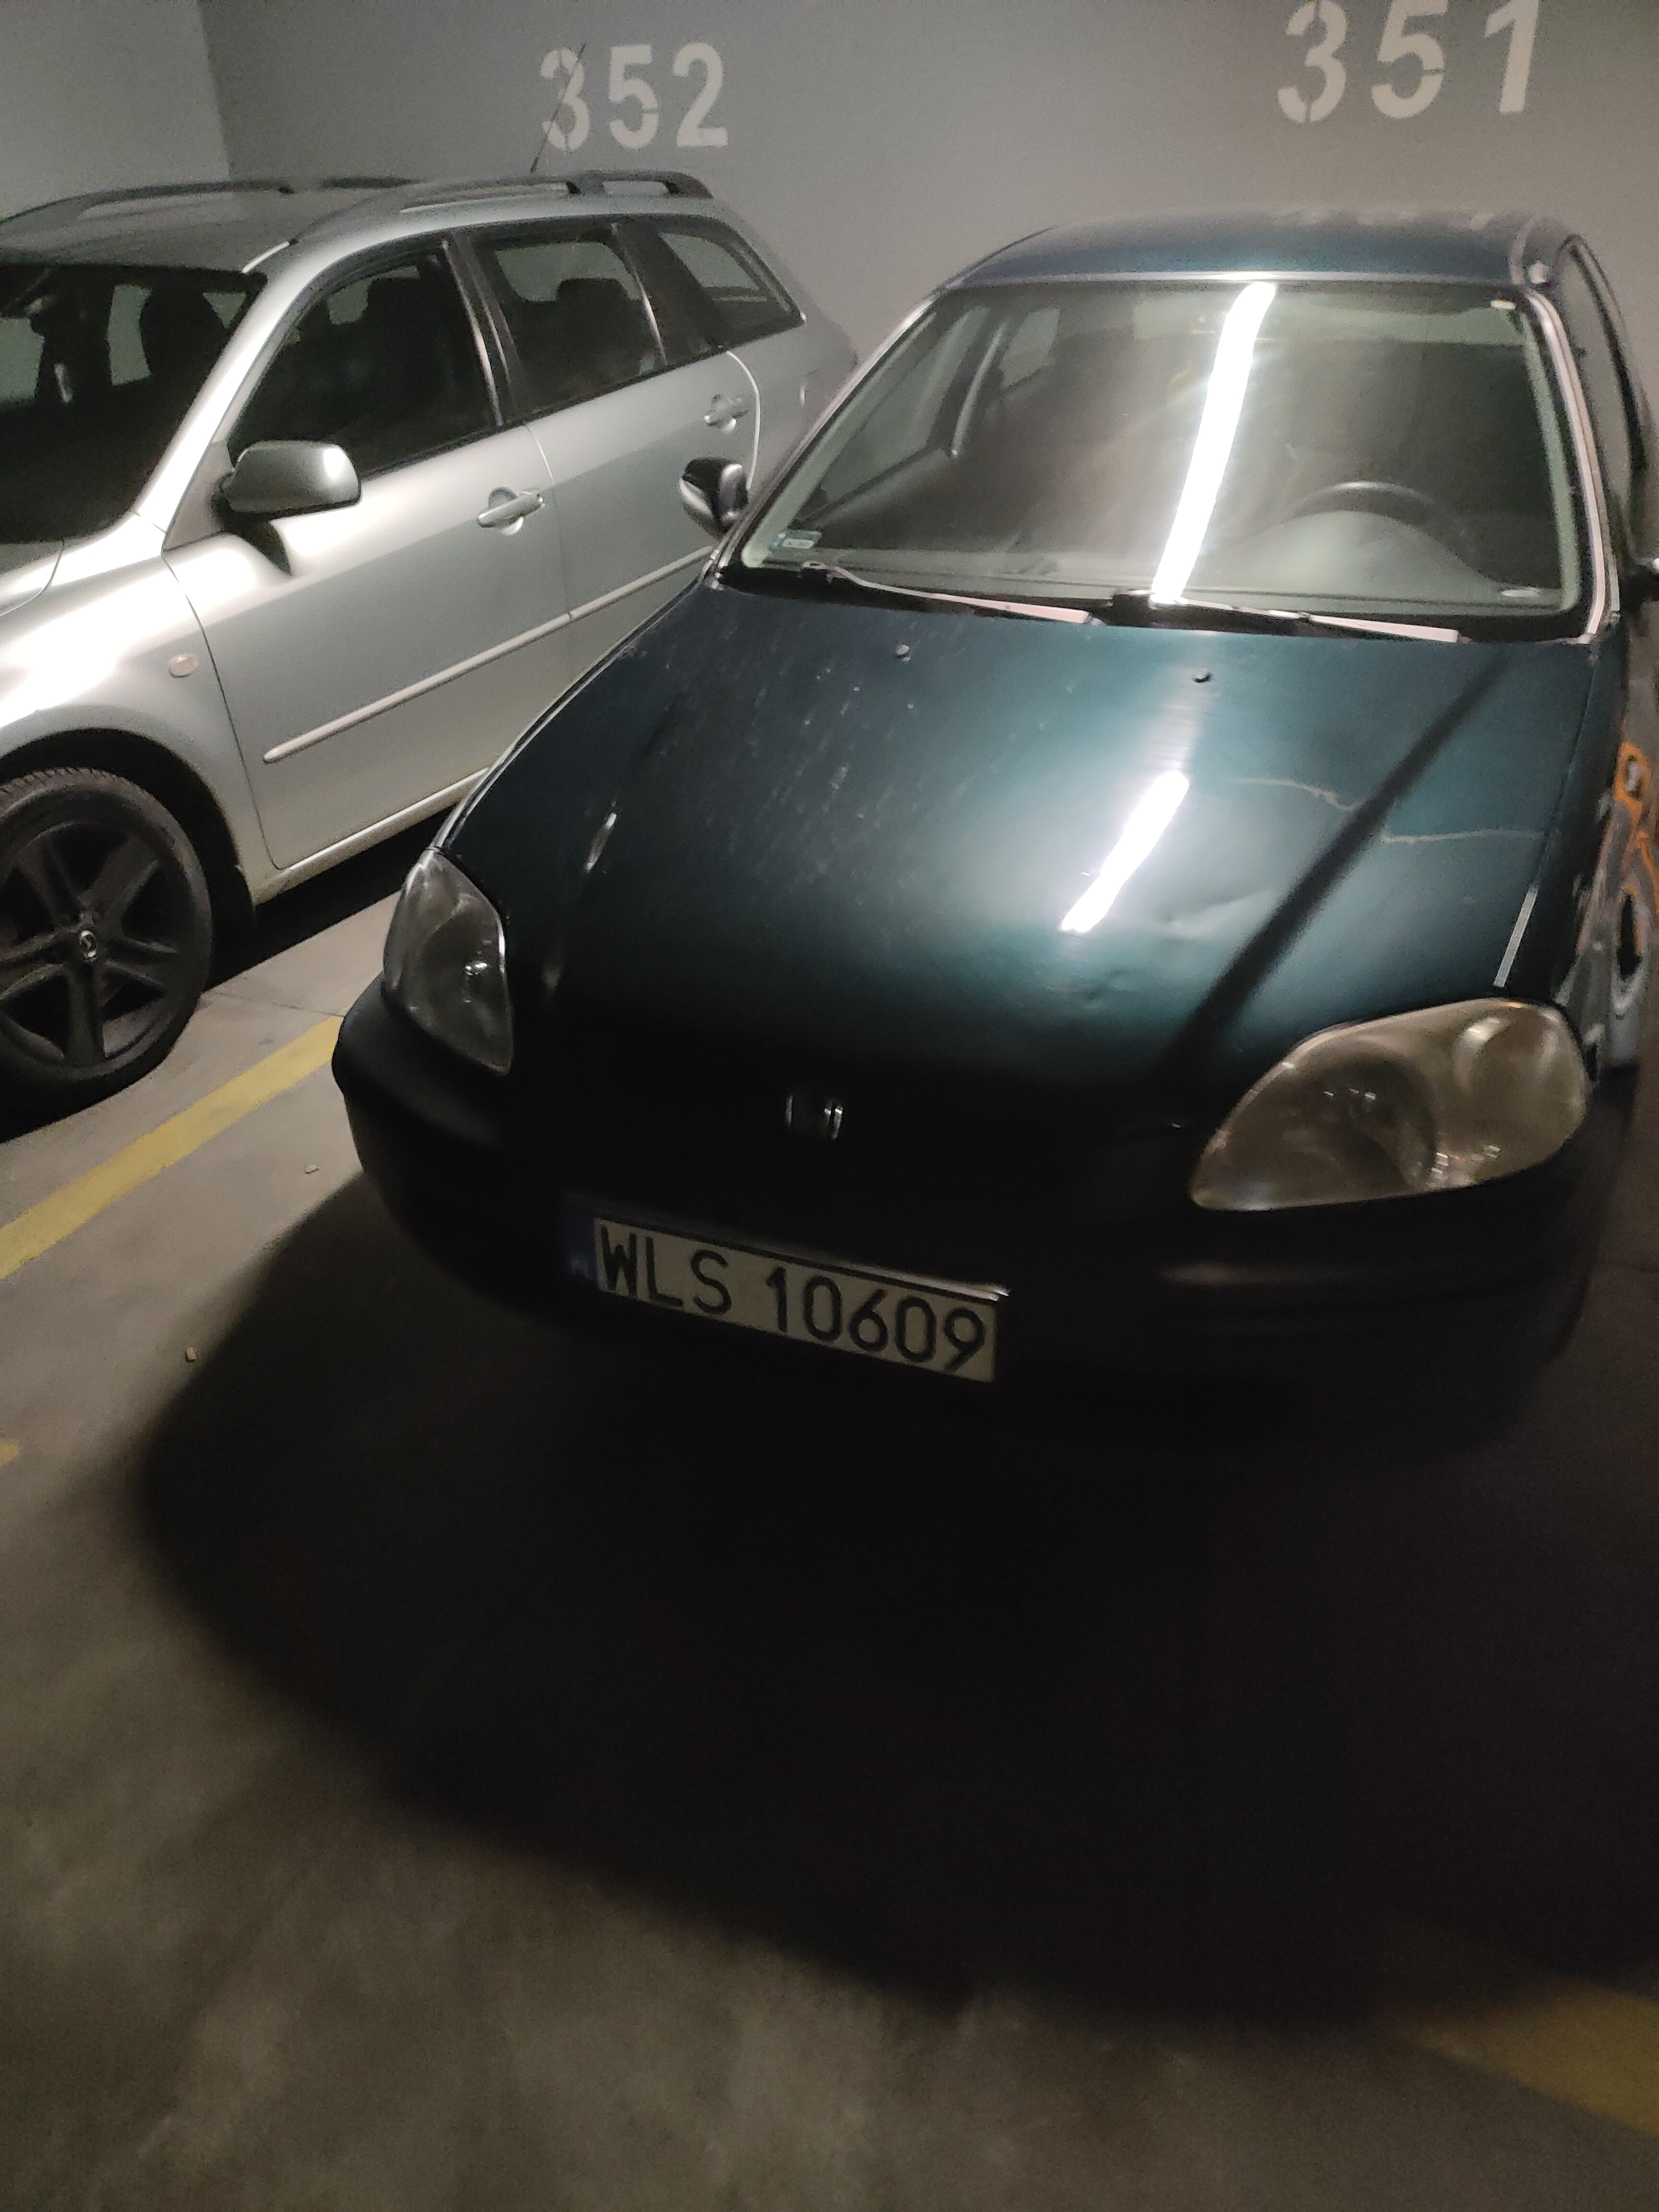number_plate: (568, 1202, 1012, 1404)
